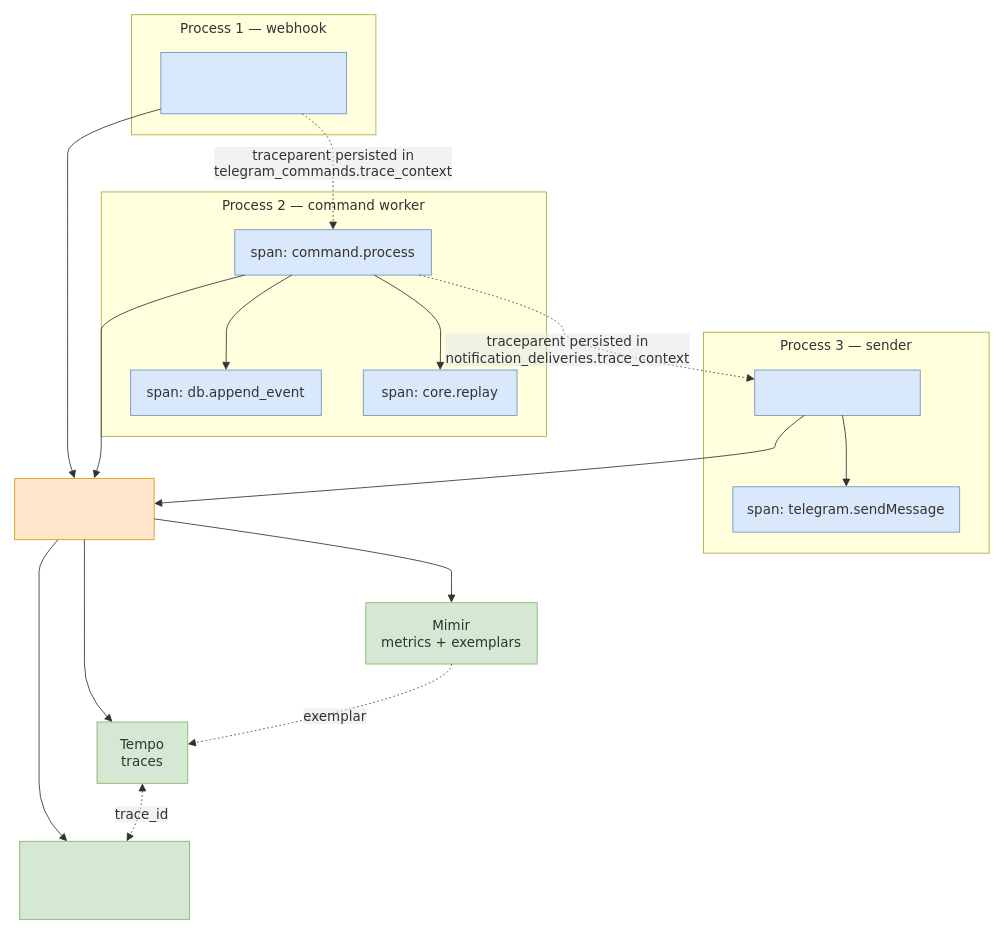
The diagram is 1004 pixels wide and 934 high, and some of its shapes have lost their labels. The centre of each missing label's shape, as x and y in pixels:
"Grafana Cloud OTLP gateway" belongs at [84,509].
"Loki logs, trace_id in structured metadata" belongs at [104,879].
"span: delivery.send" belongs at [837,392].
"span: webhook.update ROOT of the trace" belongs at [253,83].
